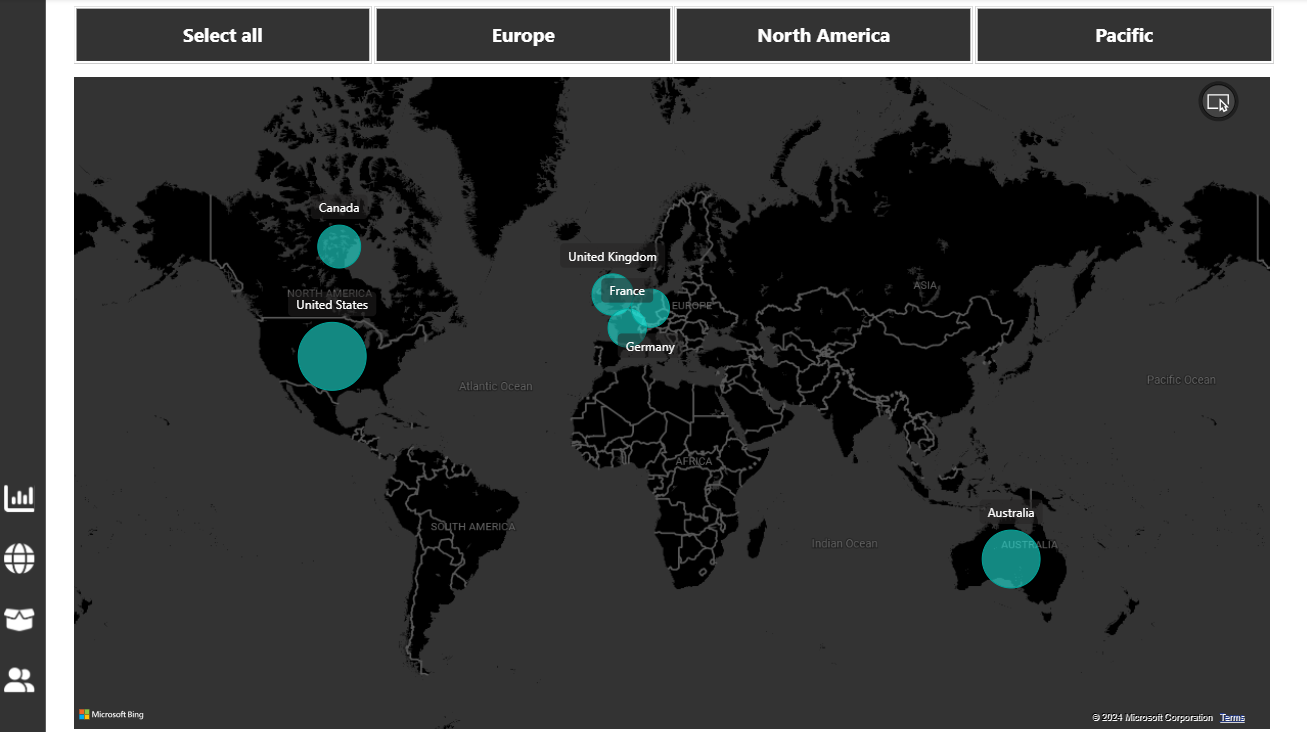

What the dashboard file says about the page in this screenshot:
{"tool":"powerbi","page":{"name":"Map","canvas":[1280,720],"ordinal":1},"visuals":[{"type":"shape","box":[0,0,45,720],"z":0},{"type":"actionButton","box":[0,470.8,53.8,37.9],"z":0,"group":"g1"},{"type":"actionButton","box":[0,529.9,53.8,37.9],"z":1000,"group":"g1"},{"type":"map","fields":{"Category":["Territory Lookup.Country"],"Size":["Measure Table.Total Orders"]},"box":[67.3,72.1,1180,648.1],"z":1000},{"type":"slicer","fields":{"Values":["Territory Lookup.Continent"]},"box":[45.2,0,1225.3,72.1],"z":2000},{"type":"actionButton","box":[0,589,53.8,37.9],"z":2000,"group":"g1"},{"type":"actionButton","box":[0,648.1,53.8,37.9],"z":3000,"group":"g1"},{"type":"group","id":"g1","title":"Page Navigation Buttons","box":[0,470.8,53.8,215.2],"z":3000}]}

Visuals, with their boxes on the page's 1280x720 design canvas (x1, y1, x2, y2). These are canvas units, not pixel positions in the 1307x732 screenshot, which may show the page scaled, cropped or inside an application window:
shape: bbox(0, 0, 45, 720)
actionButton: bbox(0, 471, 54, 509)
actionButton: bbox(0, 530, 54, 568)
map - Territory Lookup.Country x Measure Table.Total Orders: bbox(67, 72, 1247, 720)
slicer - Territory Lookup.Continent: bbox(45, 0, 1270, 72)
actionButton: bbox(0, 589, 54, 627)
actionButton: bbox(0, 648, 54, 686)
"Page Navigation Buttons" group: bbox(0, 471, 54, 686)
